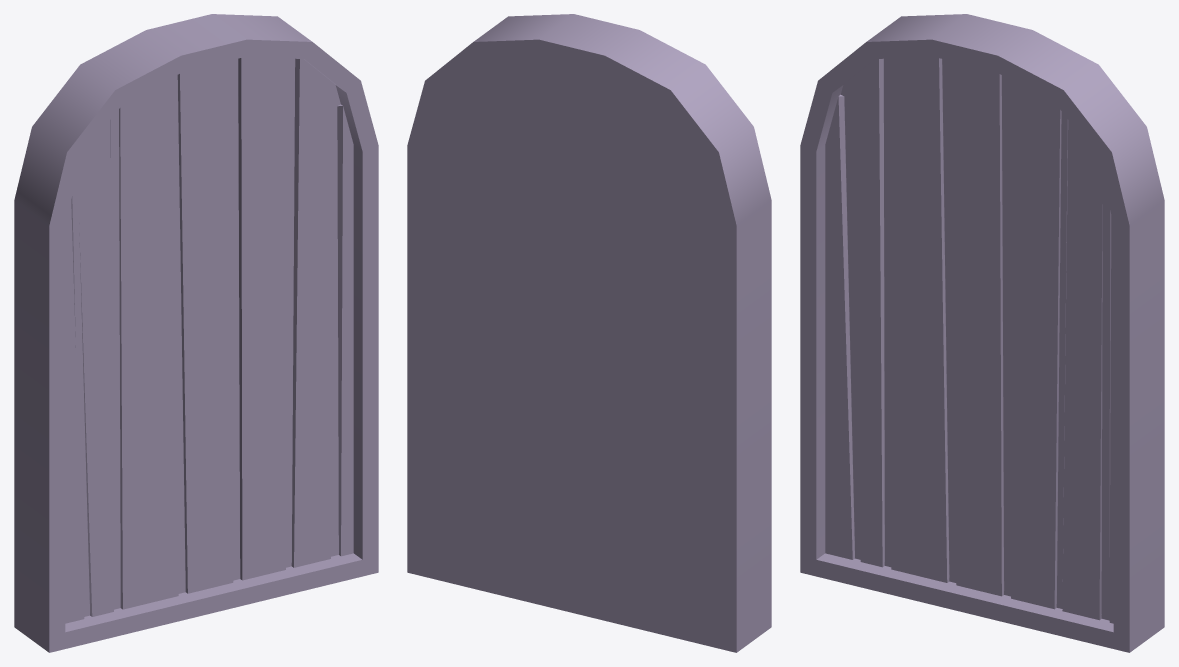
Rendered from Door 1.fbx.
The picture shows the model from 3 angles, left to right: view 1: azimuth 30°, elevation 25°; view 2: azimuth 150°, elevation 25°; view 3: azimuth 330°, elevation 25°; orthographic projection.
Visible parts, largest first — view 1: polySurface6; view 2: polySurface6; view 3: polySurface6.
Boxes of the visible parts, x1,y1,x2,y2 form: polySurface6: (14,14,378,652); polySurface6: (407,14,771,652); polySurface6: (800,14,1164,652).
Size of the model in its own units: 209 by 343 by 38.49.
